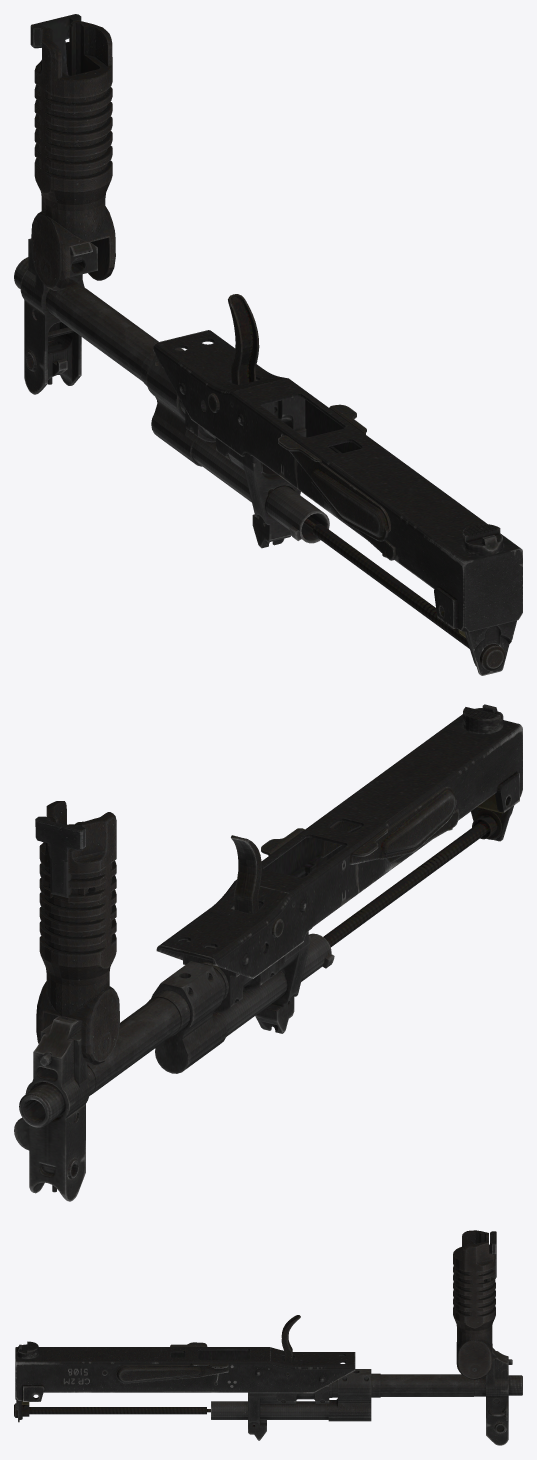
The picture shows the model from 3 angles, top to bottom: view 1: azimuth 30°, elevation 25°; view 2: azimuth 150°, elevation 25°; view 3: azimuth 270°, elevation 25°; orthographic projection. The views are drawn at different scales.
Parts seen in each view (by area): view 1: TW_62e14904c2699c0ec93adc47_PZ_Import; view 2: TW_62e14904c2699c0ec93adc47_PZ_Import; view 3: TW_62e14904c2699c0ec93adc47_PZ_Import.
Boxes of the visible parts, x1,y1,x2,y2 form: TW_62e14904c2699c0ec93adc47_PZ_Import: (14, 14, 522, 675); TW_62e14904c2699c0ec93adc47_PZ_Import: (14, 704, 522, 1201); TW_62e14904c2699c0ec93adc47_PZ_Import: (14, 1230, 522, 1445).
Bounding box in the file's own units: 0.0226 × 0.2044 × 0.09.
Materials: 1 (1 with a texture image).
